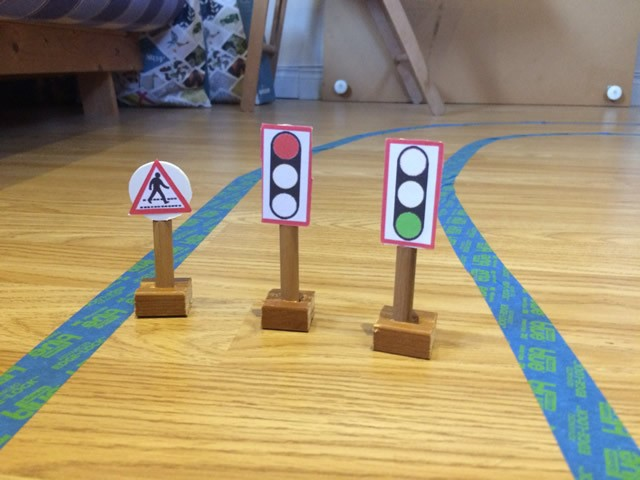Green Traffic Light: (383, 138, 438, 248)
Person Crossing: (131, 158, 194, 220)
Red Traffic Light: (260, 123, 310, 222)
